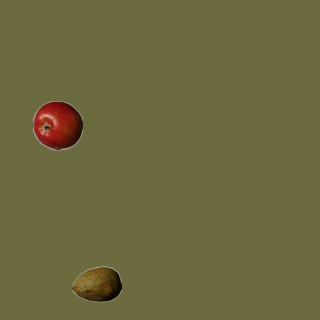Apple Braeburn: (32, 100, 82, 150)
Papaya: (71, 259, 121, 309)
